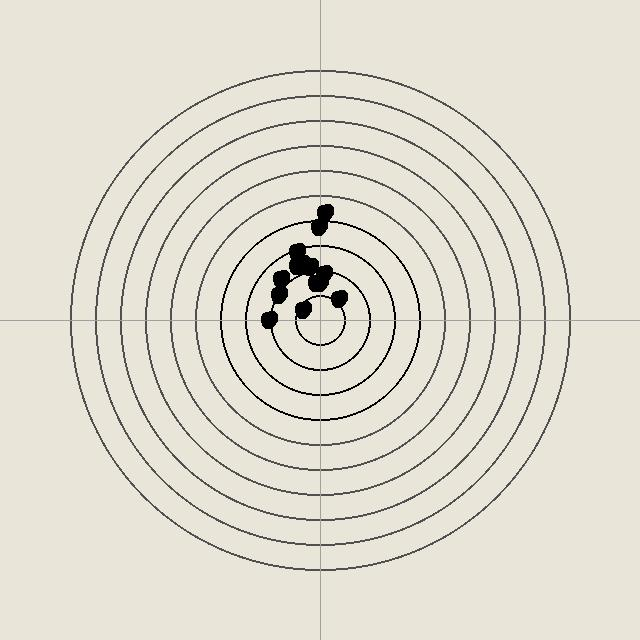good_group: (286, 255, 306, 275), (258, 309, 278, 329), (308, 216, 328, 236), (299, 256, 319, 276), (291, 253, 311, 273), (270, 268, 290, 288), (268, 284, 288, 304), (305, 272, 325, 292), (328, 288, 348, 308), (314, 202, 334, 222), (313, 263, 333, 283), (288, 255, 308, 275), (286, 241, 306, 261), (292, 299, 312, 319), (309, 272, 329, 292)
